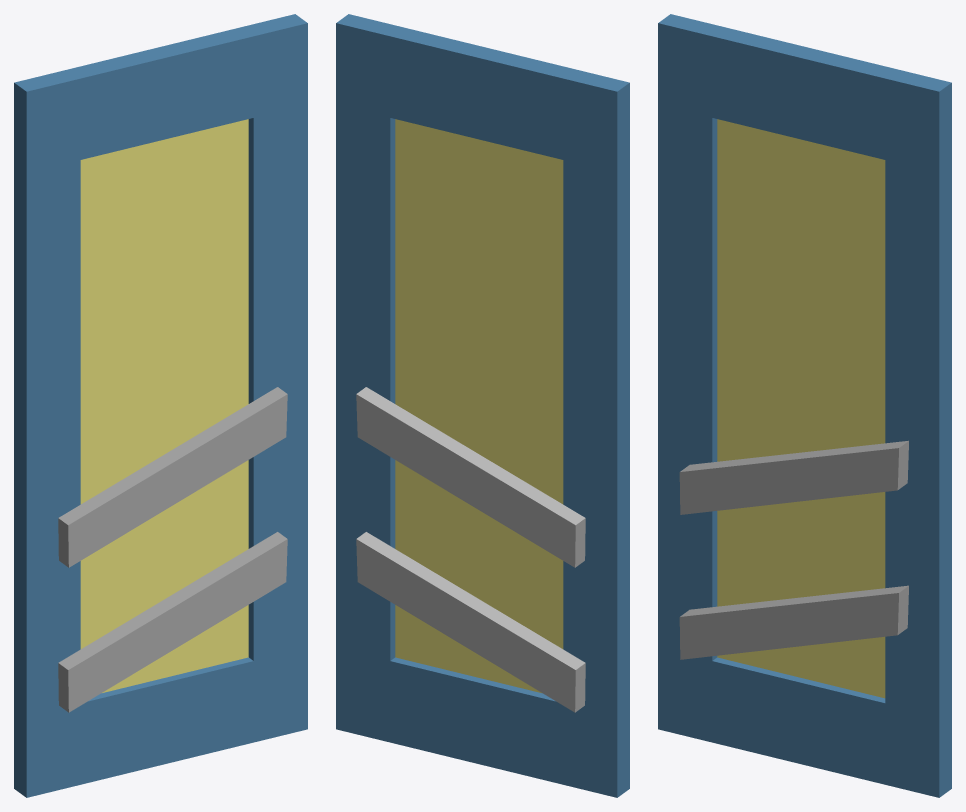
File: doorP.obj
3 views of the same model, side by side, from view 1: azimuth 30°, elevation 25°; view 2: azimuth 150°, elevation 25°; view 3: azimuth 330°, elevation 25° (orthographic).
Parts seen in each view (by area): view 1: door, windowD; view 2: door, windowD; view 3: door, windowD.
Boxes of the visible parts, <box> form: door: <box>14,14,307,797</box>; windowD: <box>80,119,248,692</box>; door: <box>336,14,629,797</box>; windowD: <box>395,119,563,692</box>; door: <box>658,14,951,797</box>; windowD: <box>717,119,885,698</box>.
Bounding box in the file's own units: 1.62 × 3.9 × 0.326.
